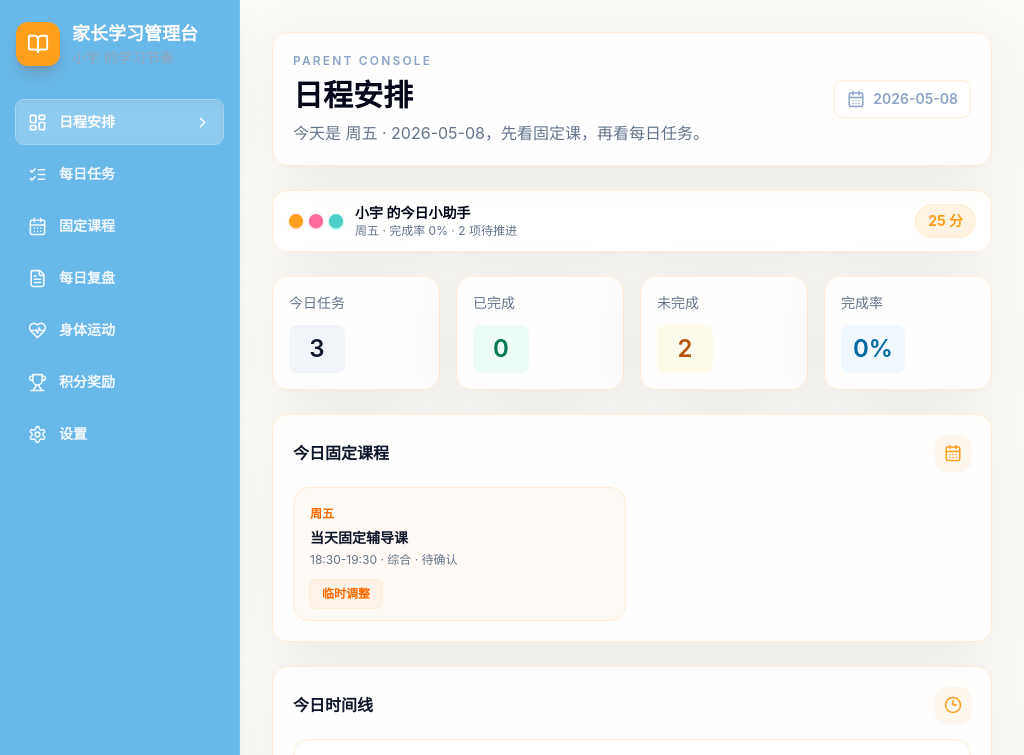
Scenario: App › saves a daily review
This screenshot has width=1024, height=755.
Click the button "每日复盘" at [120, 278], box x1=16 y1=256 x2=223 y2=300
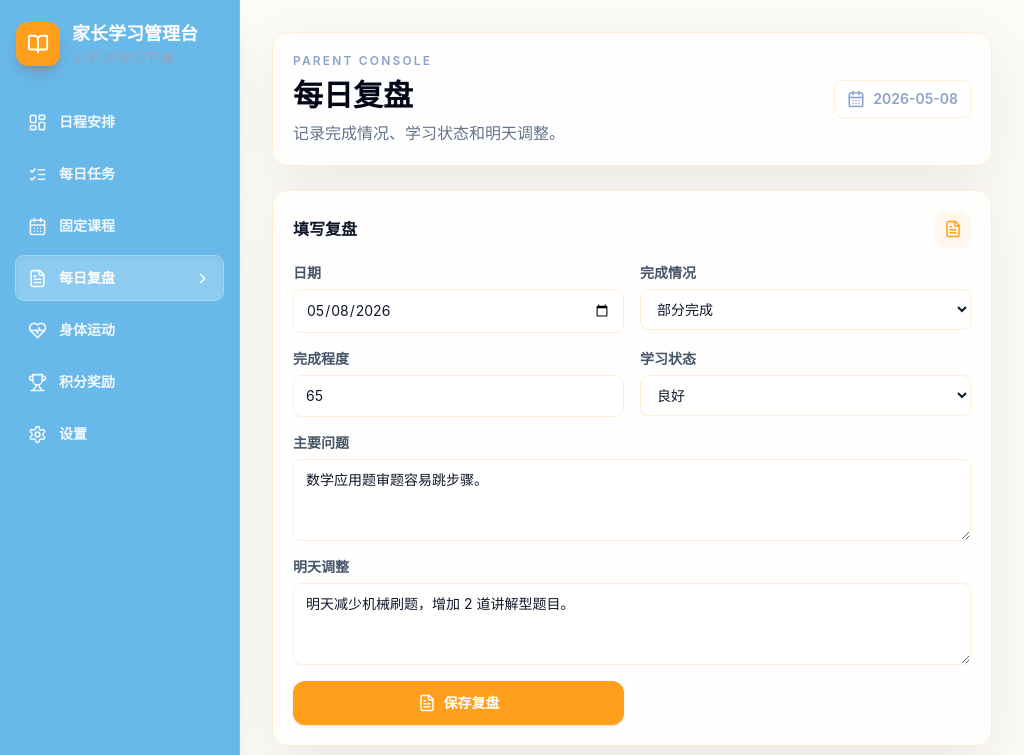
Select "完成" in the dropdown labelled "完成情况" at [806, 310], box x1=640 y1=289 x2=971 y2=330
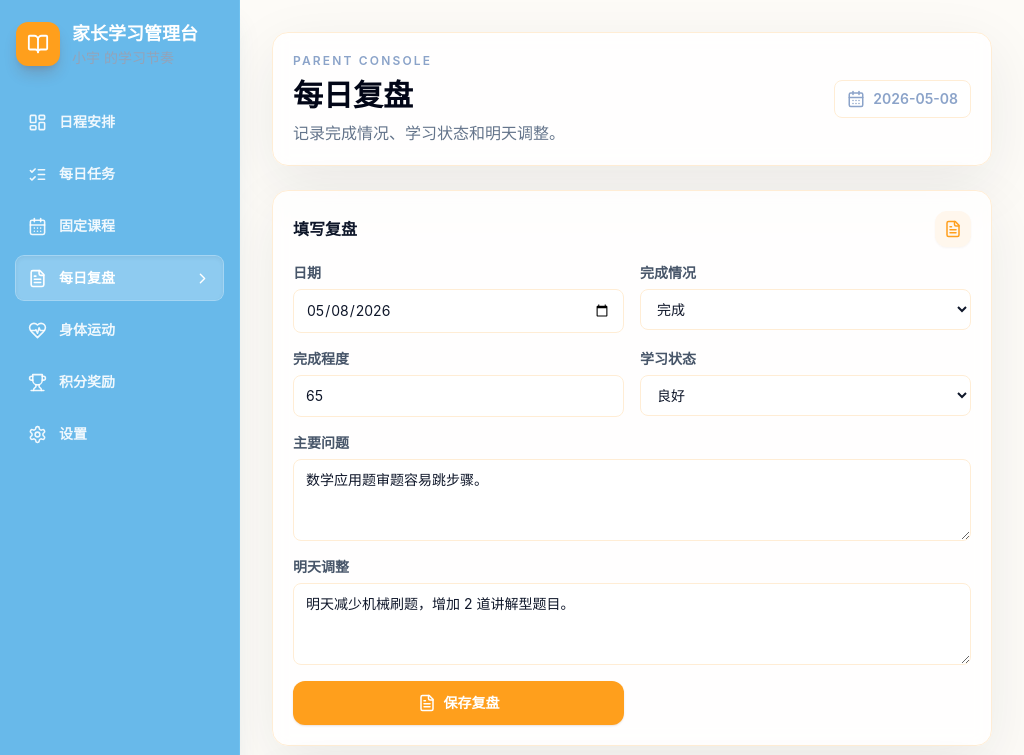
Replace the text in the number field labelled "完成程度" with "100" at [458, 396], box x1=293 y1=375 x2=624 y2=417
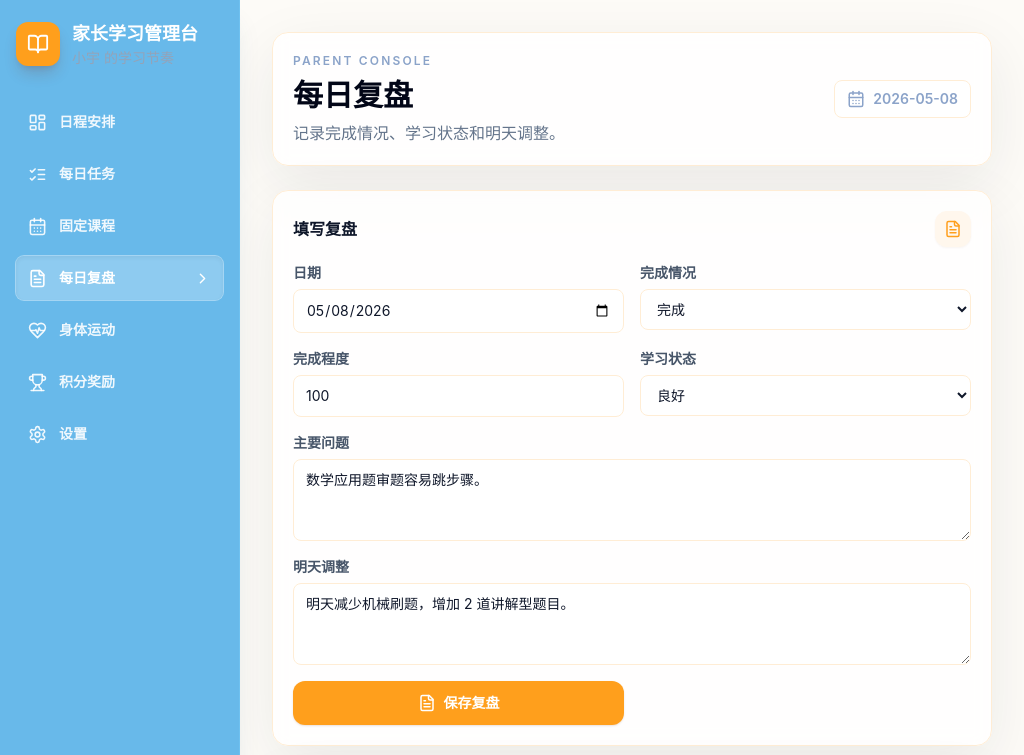
Select "优秀" in the dropdown labelled "学习状态" at [806, 396], box x1=640 y1=375 x2=971 y2=416
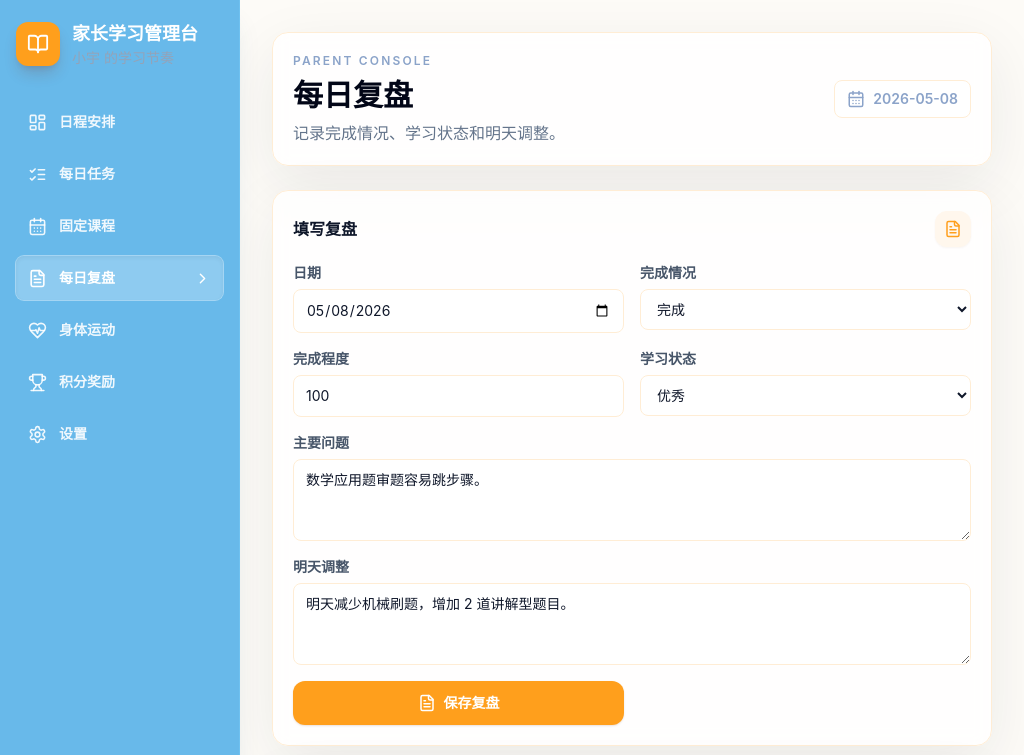
Replace the text in the text box labelled "主要问题" with "审题仍然偏快。" at [632, 500], box x1=293 y1=459 x2=971 y2=541
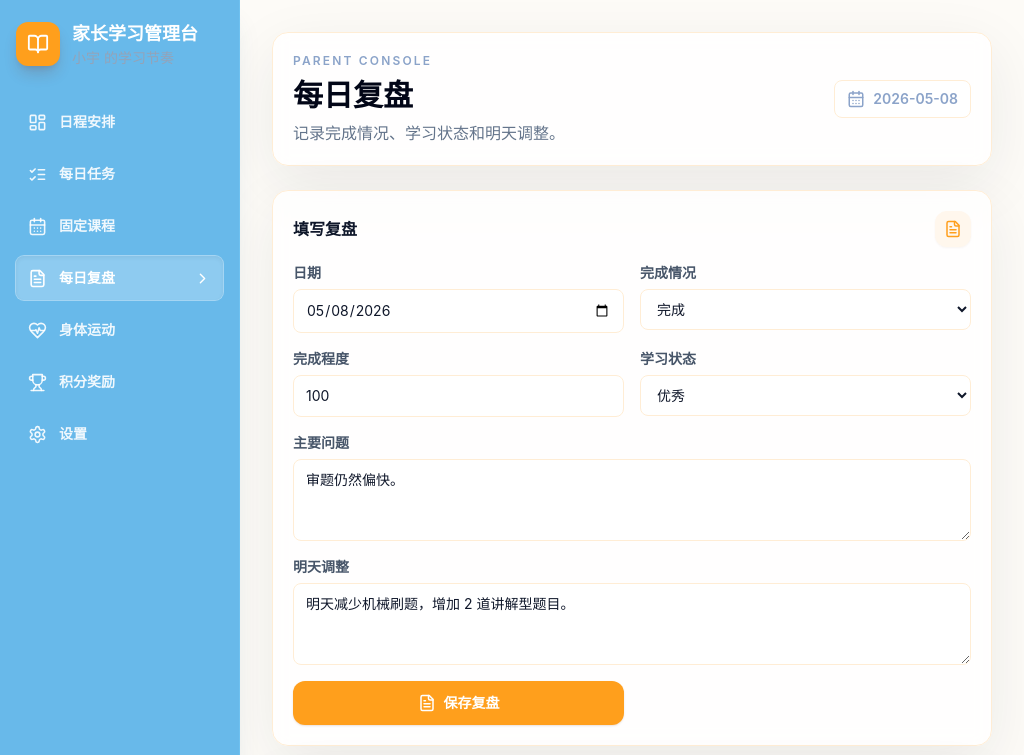
Click the button "保存复盘" at [458, 703], box x1=293 y1=681 x2=624 y2=725
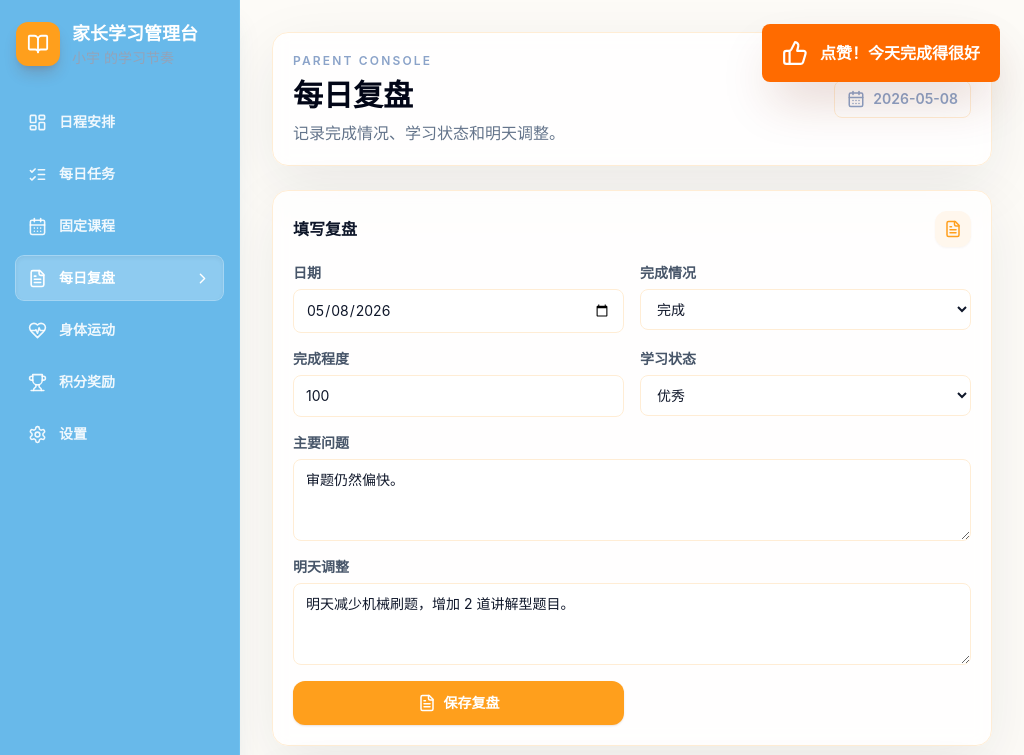
Expected: the text "点赞！今天完成得很好" is shown, x1=820 y1=41 x2=980 y2=65
